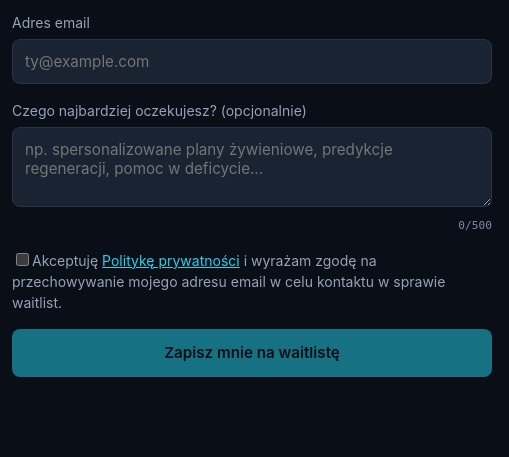
Test: WaitlistForm › shows error banner on 422 server response
This screenshot has width=509, height=457.
Type "a@b.pl" into the field labelled "Adres email". click: [252, 62]
box: [12,39,492,84]
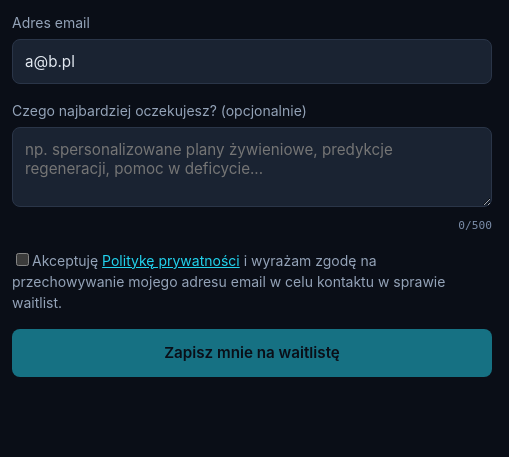
Click the checkbox. click: [22, 260]
box: [16,253,29,266]
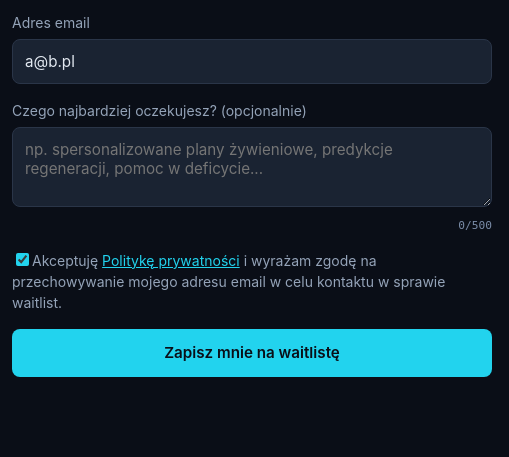
Click the button "Zapisz mnie na waitlistę". click: [252, 353]
box: [12,329,492,377]
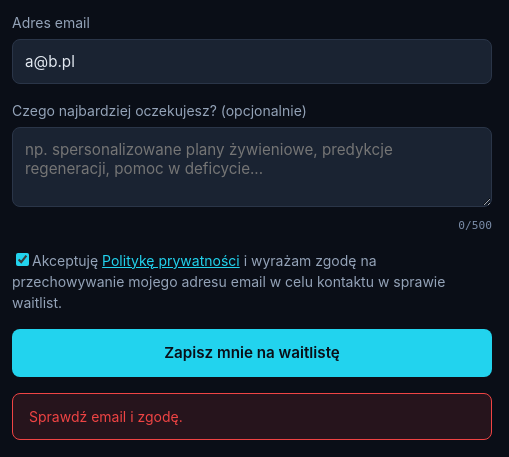
Check: the text "Sprawdź email i zgodę." is shown, box [12,393,492,440]
